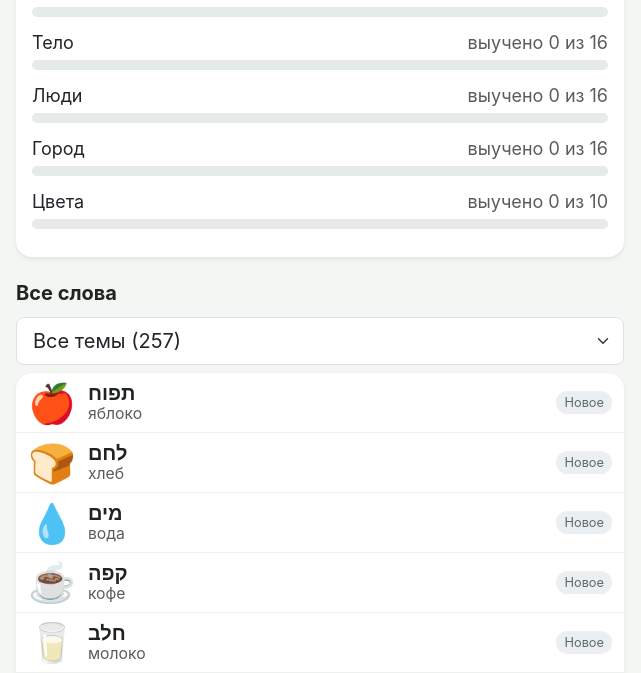
Test: Прогресс › фильтр по теме
The width and height of the screenshot is (641, 673).
(page scrolled)
Select "Тело (16)" in the dropdown named "Тема": (320, 341) [16, 317, 624, 365]
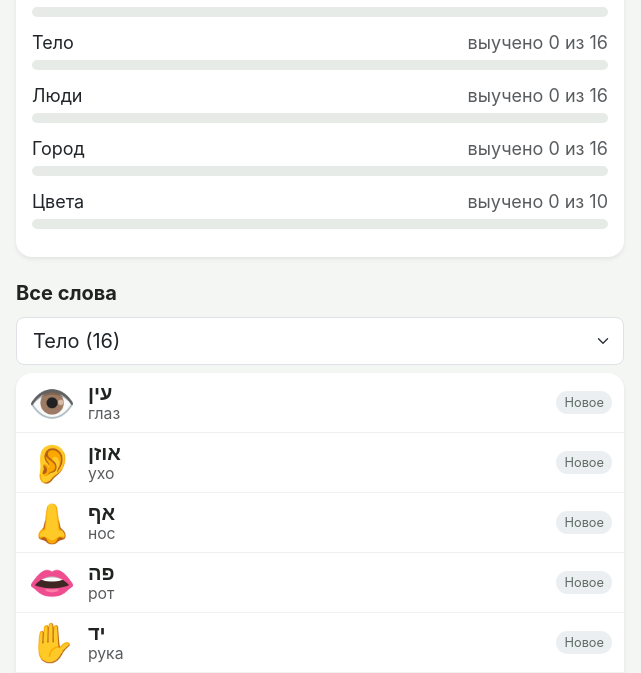
Expected: the text "глаз" is shown, [88, 405, 120, 424]
Now the button "яблоко" is gone
